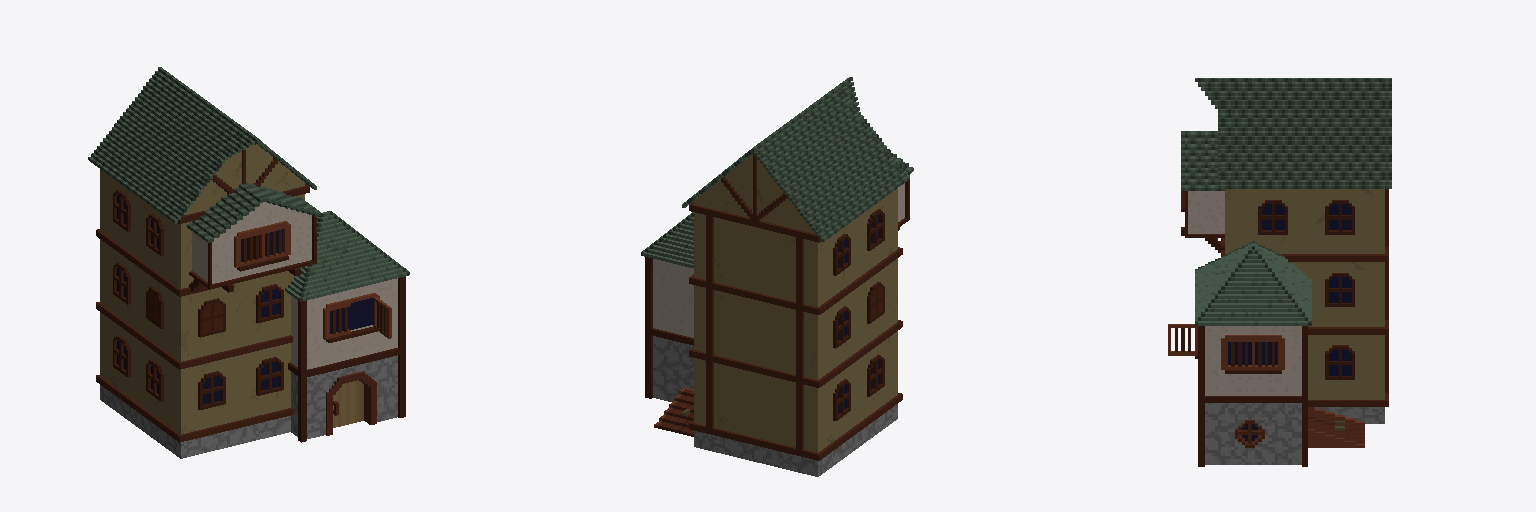
3 renders of one model, left to right at view 1: azimuth 30°, elevation 25°; view 2: azimuth 150°, elevation 25°; view 3: azimuth 270°, elevation 25°, orthographic.
Parts seen in each view (by area): view 1: object 1; view 2: object 1; view 3: object 1.
Boxes of the visible parts, box(x1,y1,x2,y2) form: object 1: box(88, 67, 409, 458); object 1: box(641, 77, 913, 476); object 1: box(1168, 78, 1391, 466).
Bounding box in the file's own units: 7.7 × 10.4 × 6.7.
1 materials, 1 textured.